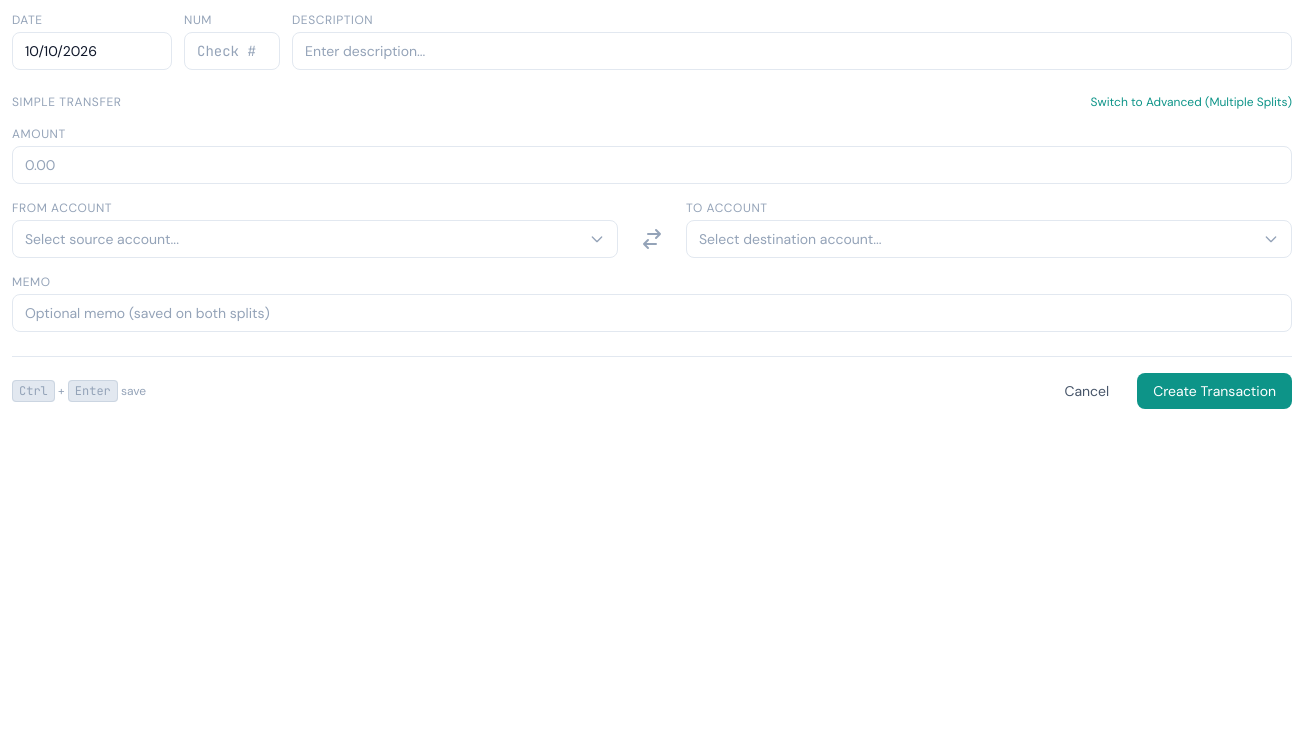
Test case: TransactionForm server + validation errors › places client validation failures under the fields they are about
Click the button "Create Transaction": (1215, 391) [1137,373,1292,409]
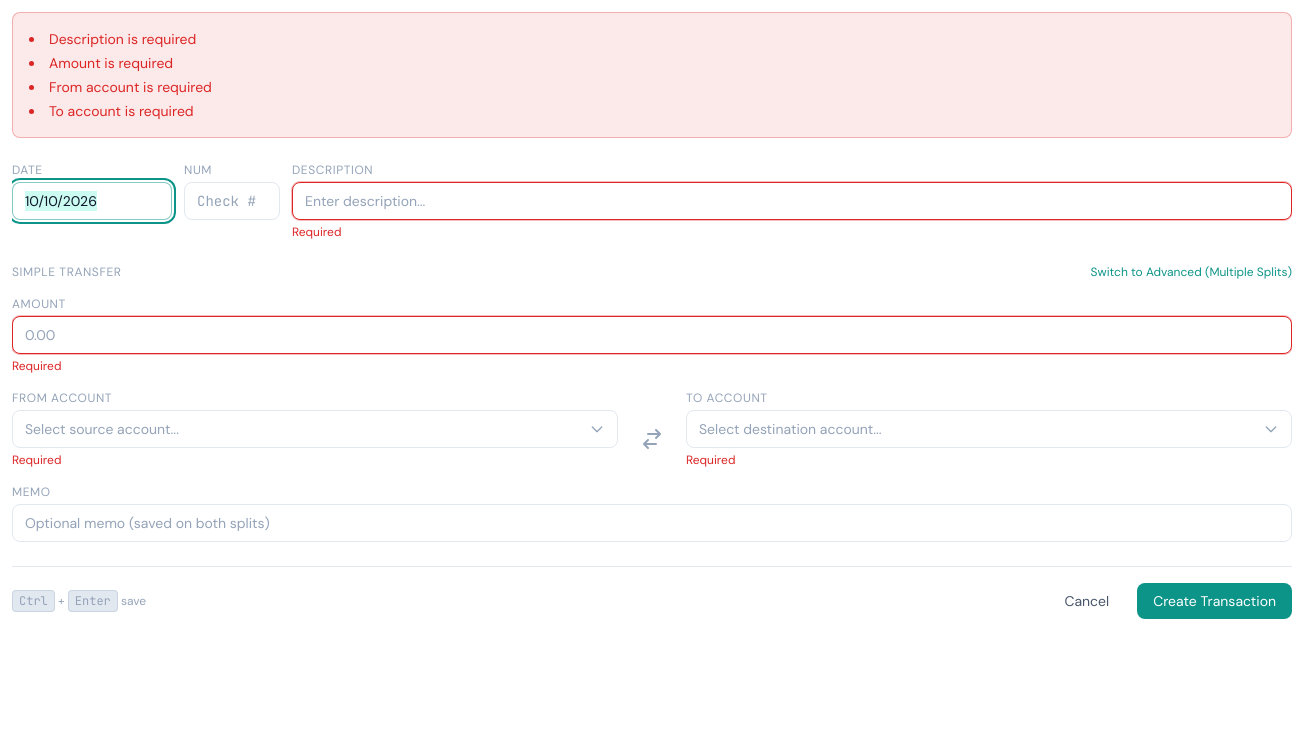
Check: the text with id "tx-error-amount" reads "Required", box [12,358,61,374]
Check: the text with id "tx-error-description" reads "Required", box [292,224,341,240]
Check: the text with id "tx-error-fromAccount" reads "Required", box [12,452,61,468]
